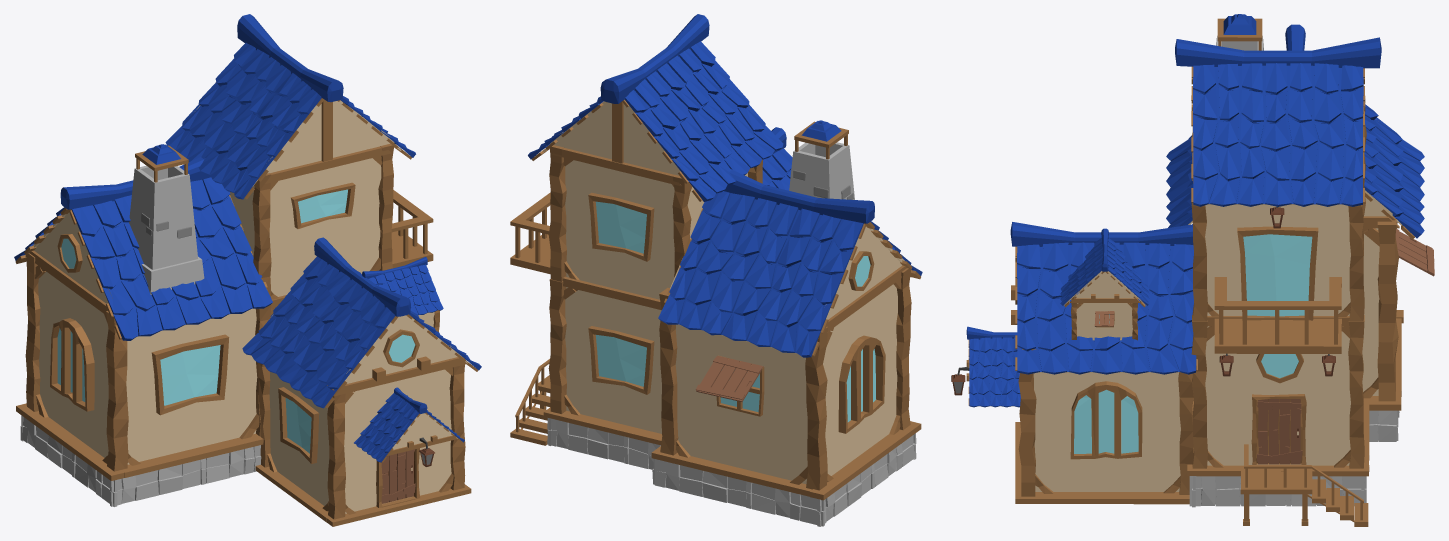
The model's file is House1.fbx.
The picture shows the model from 3 angles, left to right: view 1: azimuth 30°, elevation 25°; view 2: azimuth 150°, elevation 25°; view 3: azimuth 270°, elevation 25°; orthographic projection. The views are drawn at different scales.
Parts seen in each view (by area): view 1: House1; view 2: House1; view 3: House1.
Part boxes in pixels (x1,y1,x2,y2): House1: (14,14,481,526); House1: (510,14,922,526); House1: (951,14,1434,526).
Size of the model in its own units: 4516 by 4886 by 4970.
